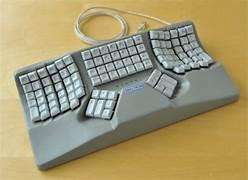keyboard: (13, 19, 240, 170)
